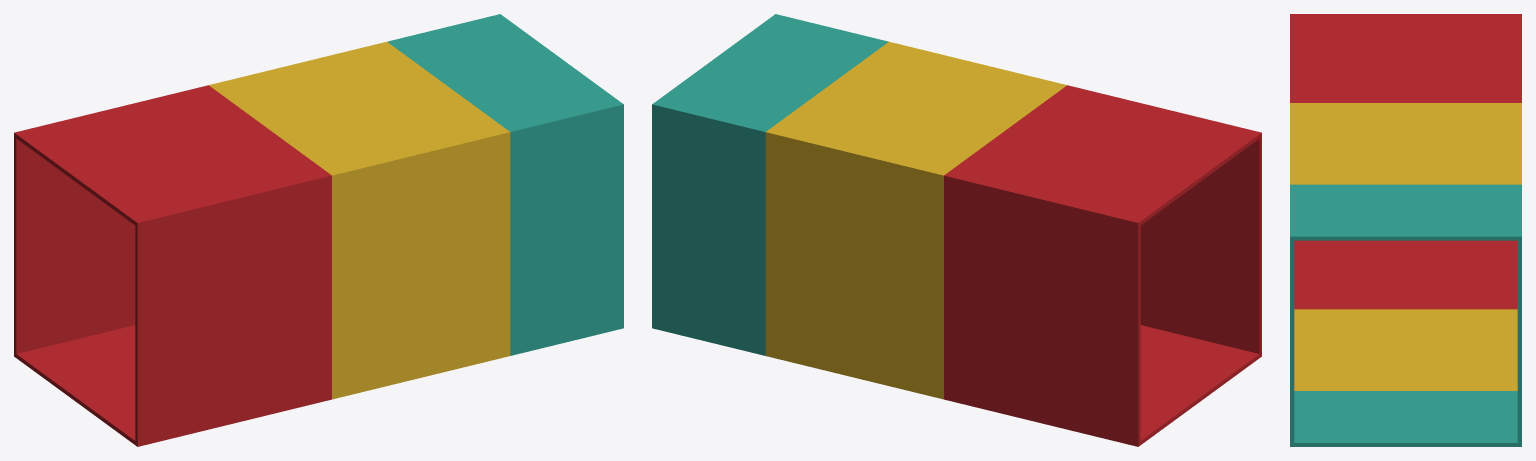
File: alumina_cooler_temperature.glb
3 renders of one model, left to right at view 1: azimuth 30°, elevation 25°; view 2: azimuth 150°, elevation 25°; view 3: azimuth 270°, elevation 25°, orthographic. The views are drawn at different scales.
Visible parts, largest first — view 1: temperature__front, temperature__back; view 2: temperature__back, temperature__front; view 3: temperature__back, temperature__front.
Boxes of the visible parts, x1,y1,x2,y2 form: temperature__front: (76, 59, 623, 446); temperature__back: (14, 14, 561, 401); temperature__back: (652, 59, 1199, 446); temperature__front: (714, 14, 1261, 401); temperature__back: (1406, 14, 1521, 446); temperature__front: (1290, 14, 1405, 446).
Bounding box in the file's own units: 3 × 1.32 × 1.32.
